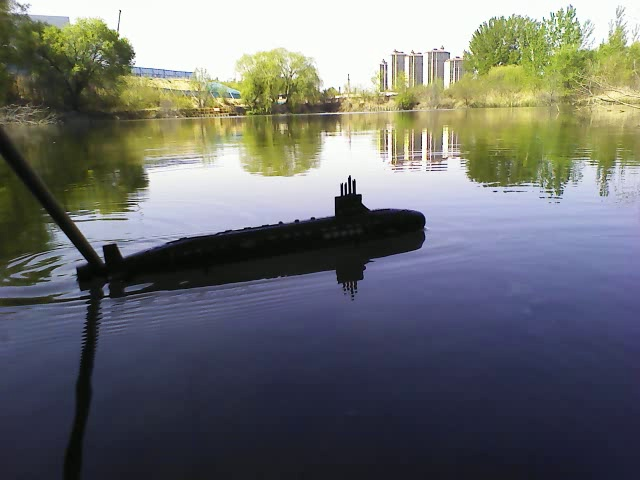submarine: (73, 171, 425, 285)
